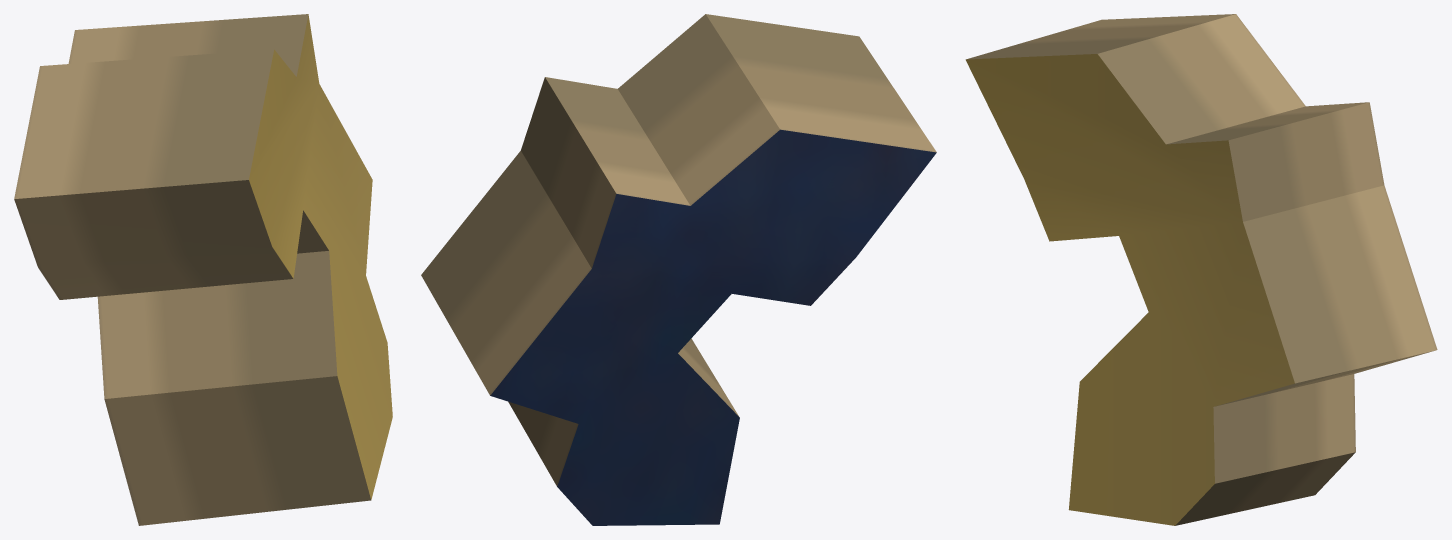
The model's file is 0697_Tadzhikistan.glb.
3 renders of one model, left to right at view 1: azimuth 30°, elevation 25°; view 2: azimuth 150°, elevation 25°; view 3: azimuth 270°, elevation 25°, orthographic. The views are drawn at different scales.
Parts seen in each view (by area): view 1: part_0; view 2: part_0; view 3: part_0.
Boxes of the visible parts, x1,y1,x2,y2 form: part_0: (14, 14, 392, 525); part_0: (421, 14, 936, 525); part_0: (965, 14, 1437, 525).
Bounding box in the file's own units: 0.4457 × 0.4604 × 0.4294.
1 material, 1 textured.
